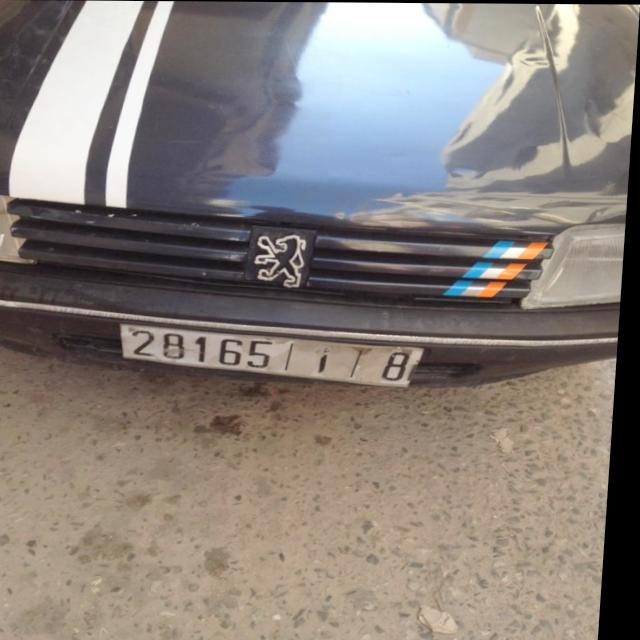License-Plate: (125, 325, 428, 386)
